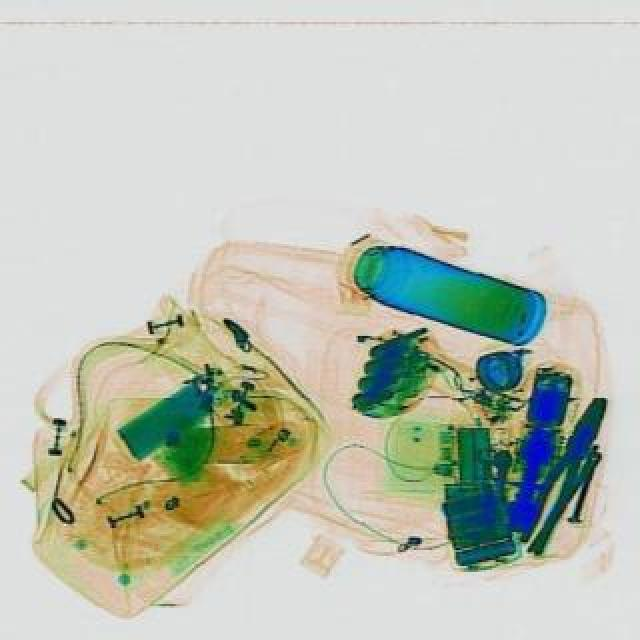wrench: (506, 390, 622, 556)
